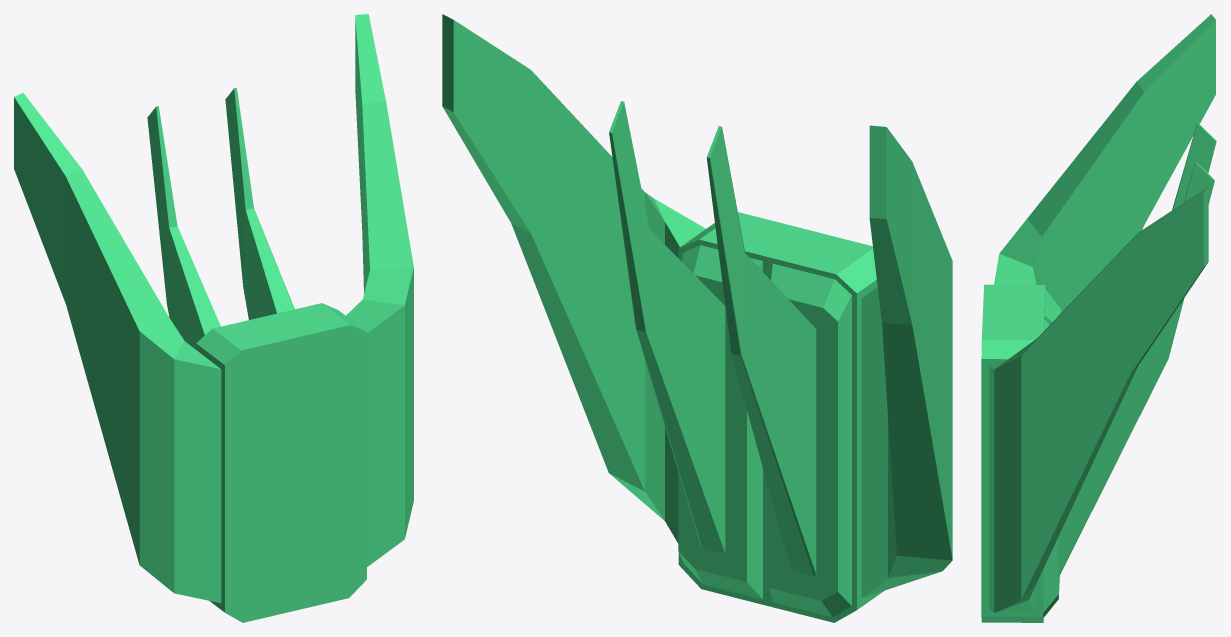
Rendered from Assignment 1 Persona Wind Persona.fbx.
3 renders of one model, left to right at view 1: azimuth 30°, elevation 25°; view 2: azimuth 150°, elevation 25°; view 3: azimuth 270°, elevation 25°, orthographic. The views are drawn at different scales.
Parts seen in each view (by area): view 1: Wind Persona Low; view 2: Wind Persona Low; view 3: Wind Persona Low.
Boxes of the visible parts, <box> form: Wind Persona Low: <box>14,14,413,622</box>; Wind Persona Low: <box>442,14,952,622</box>; Wind Persona Low: <box>981,14,1216,622</box>.
Size of the model in its own units: 82.84 by 107 by 46.19.
